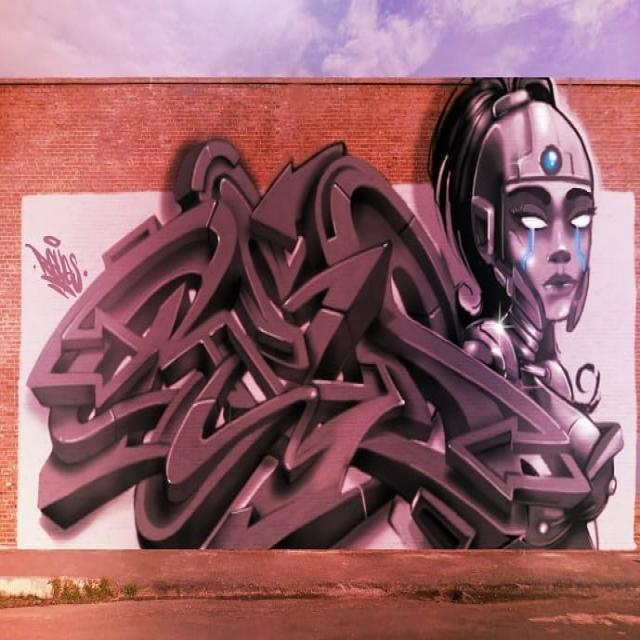nonspitting: (29, 136, 592, 558), (32, 230, 88, 301)
spitting: (426, 73, 627, 531)
